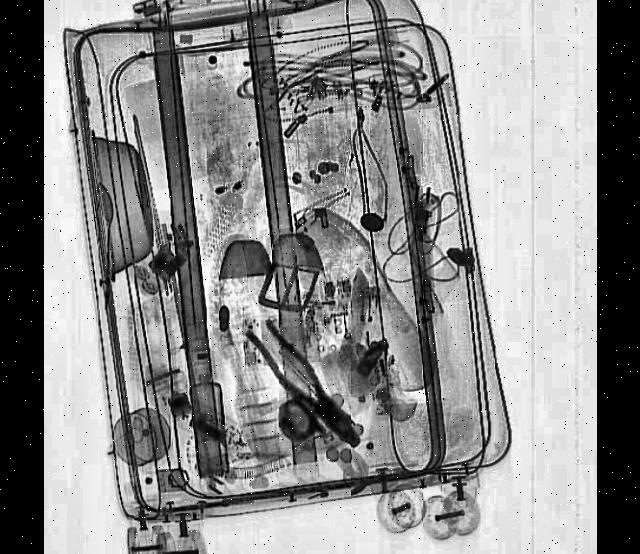Pliers: (242, 303, 368, 463)
